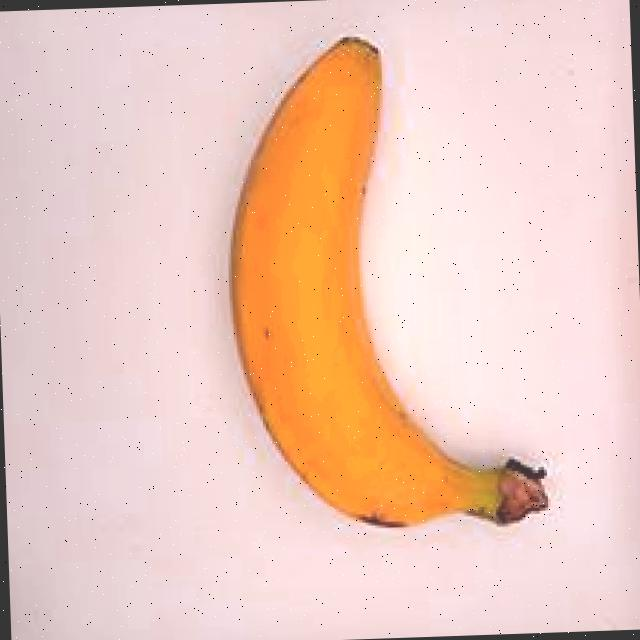Ripe: (188, 19, 590, 568)
